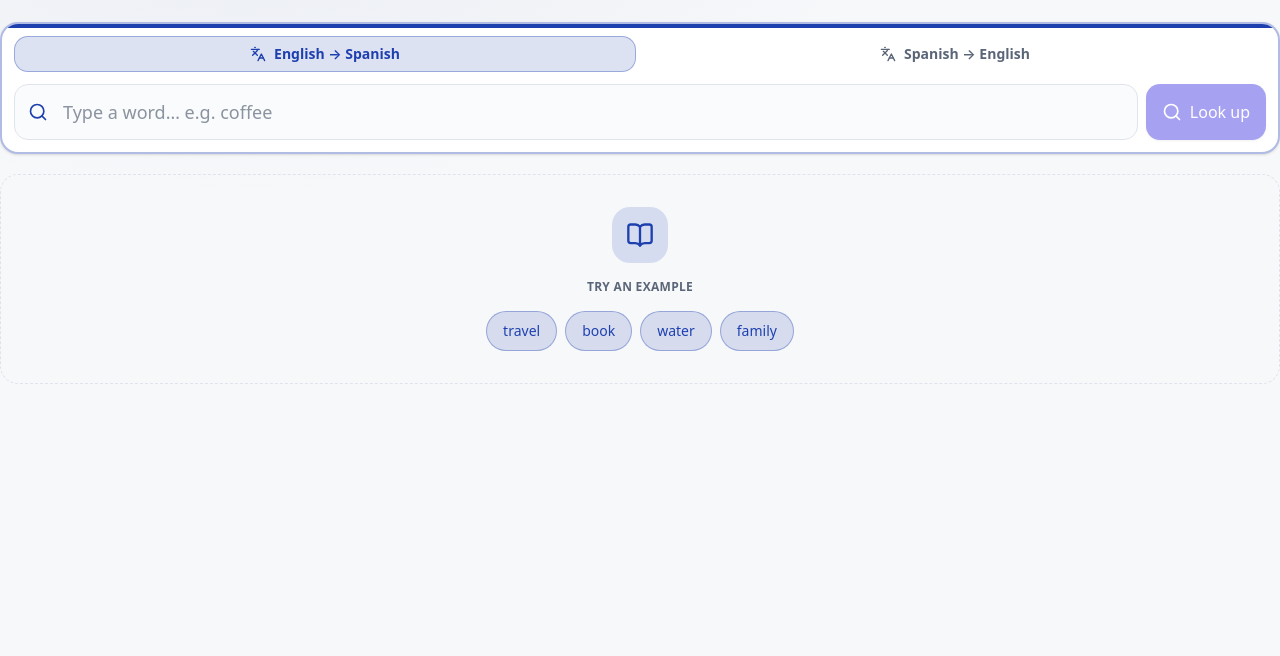
DictionaryLookup (V3.30) › muestra definición, traducción, ejemplo y marca de uso de una palabra conocida
Type "coffee" into the field named "Search the dictionary".
click(576, 112); type("coffee")  # box [14,84,1138,140]
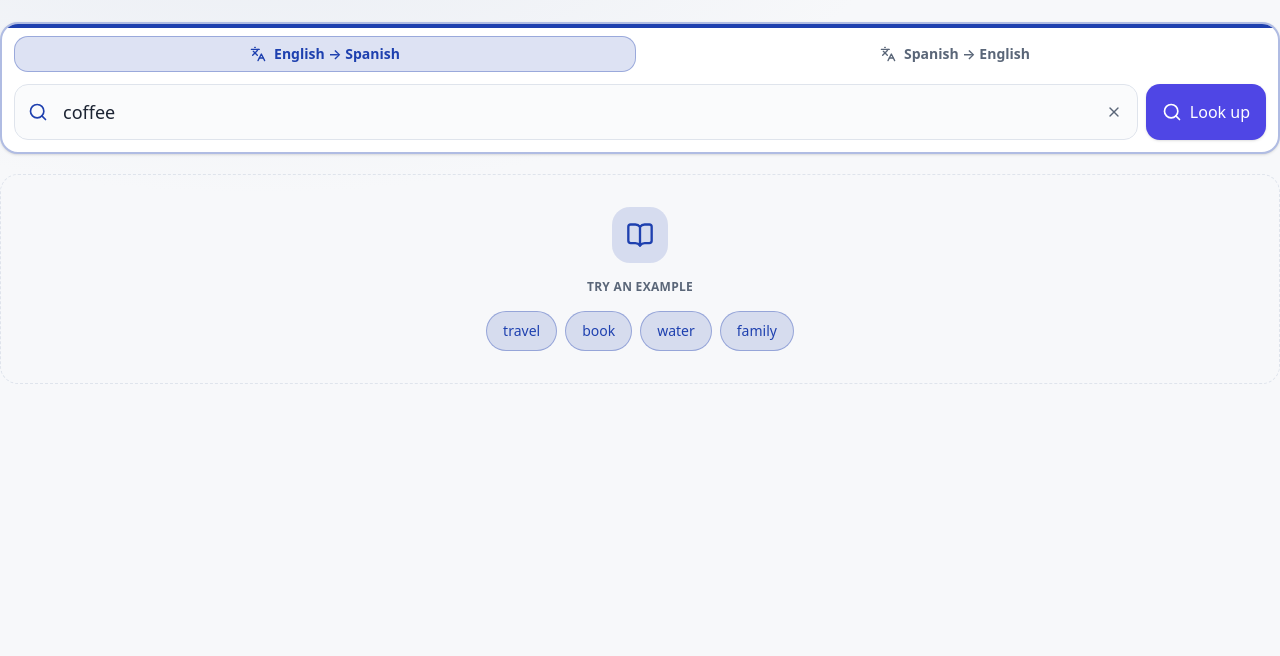
Click the button "Look up".
click(1206, 112)  # box [1146,84,1266,140]
(page scrolled)
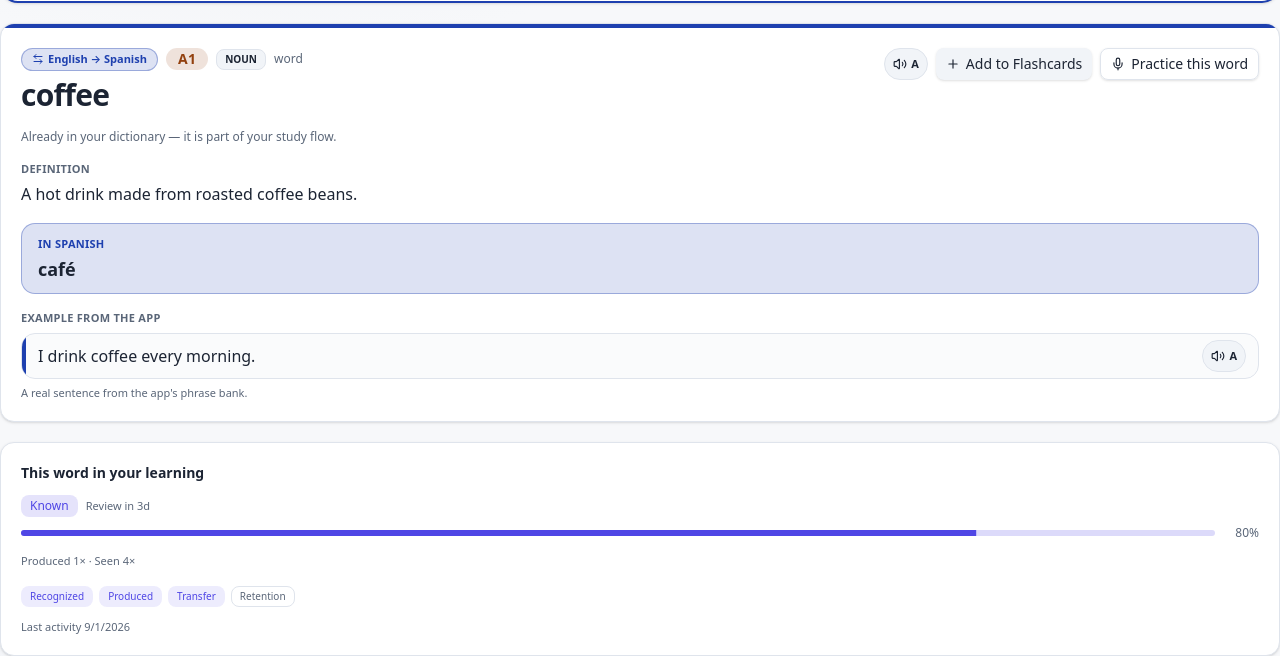
Result: the text "A hot drink made from roasted coffee beans." is shown at [21,183,357,205]
Result: the text "café" is shown at [38,256,76,280]
Result: the text "Definition" is shown at [21,160,90,176]
